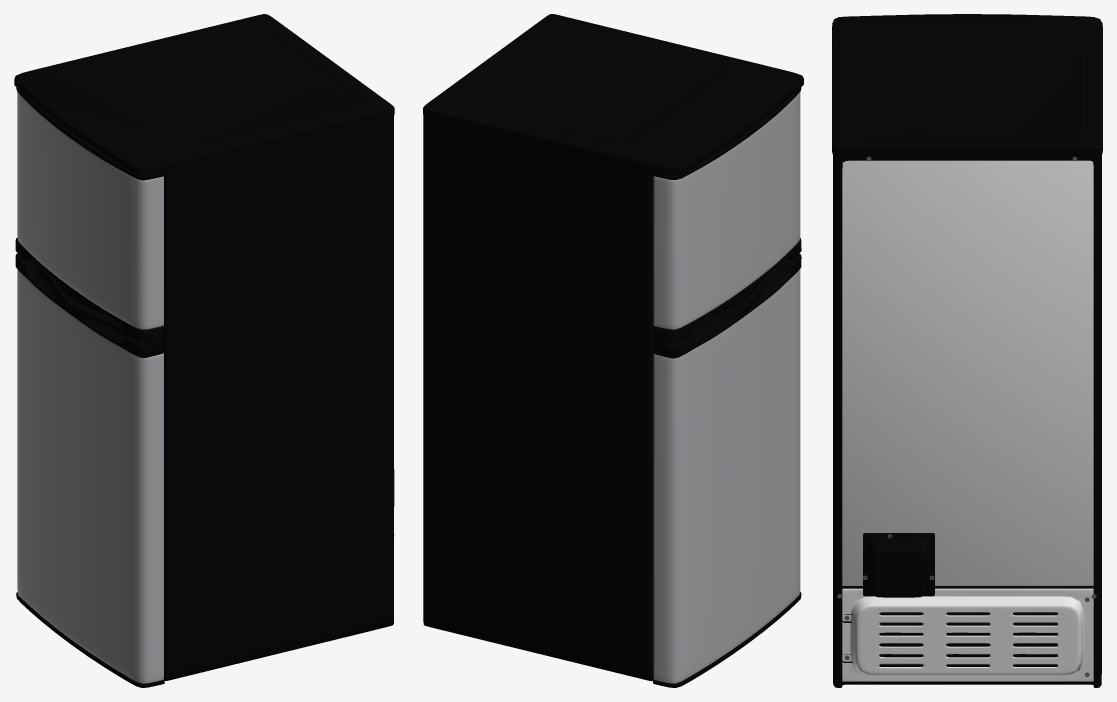
Rendered from TallFridge.glb.
3 views of the same model, side by side, from view 1: azimuth 30°, elevation 25°; view 2: azimuth 150°, elevation 25°; view 3: azimuth 270°, elevation 25° (orthographic). The views are drawn at different scales.
Visible parts, largest first — view 1: Cube.021; view 2: Cube.021; view 3: Cube.021.
Part boxes in pixels (x1,y1,x2,y2): Cube.021: (14,14,394,687); Cube.021: (423,14,803,687); Cube.021: (832,14,1102,687).
Size of the model in its own units: 0.613 by 1.08 by 0.489.
Materials: 6 (1 with a texture image).
